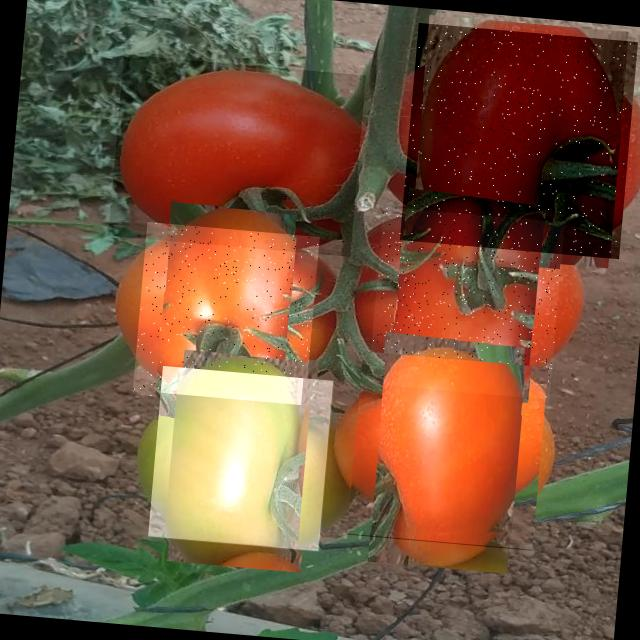Ripe Tomato: (400, 22, 638, 258), (107, 55, 366, 256), (346, 351, 548, 553), (368, 206, 564, 403), (132, 222, 319, 409)
Unripe Tomato: (148, 366, 336, 554)
